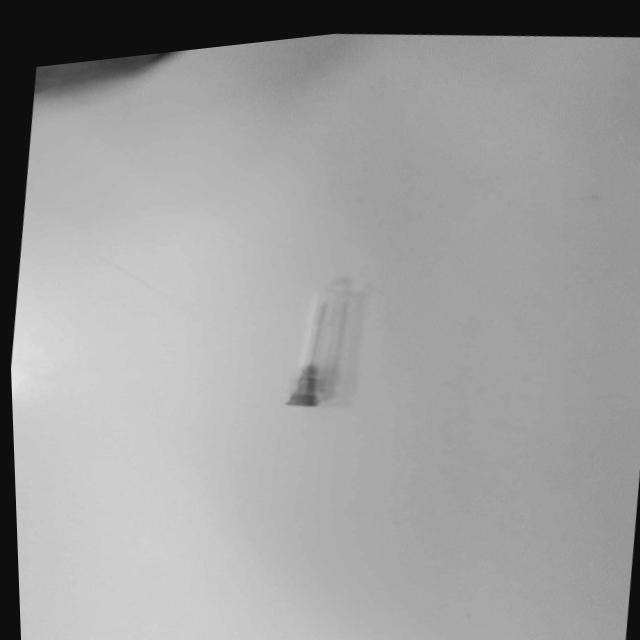Sharps: (285, 272, 372, 408)
